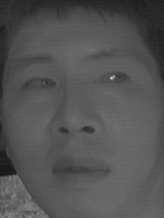eye: (17, 74, 57, 97), (93, 69, 132, 91)
mouth: (49, 150, 110, 191)
